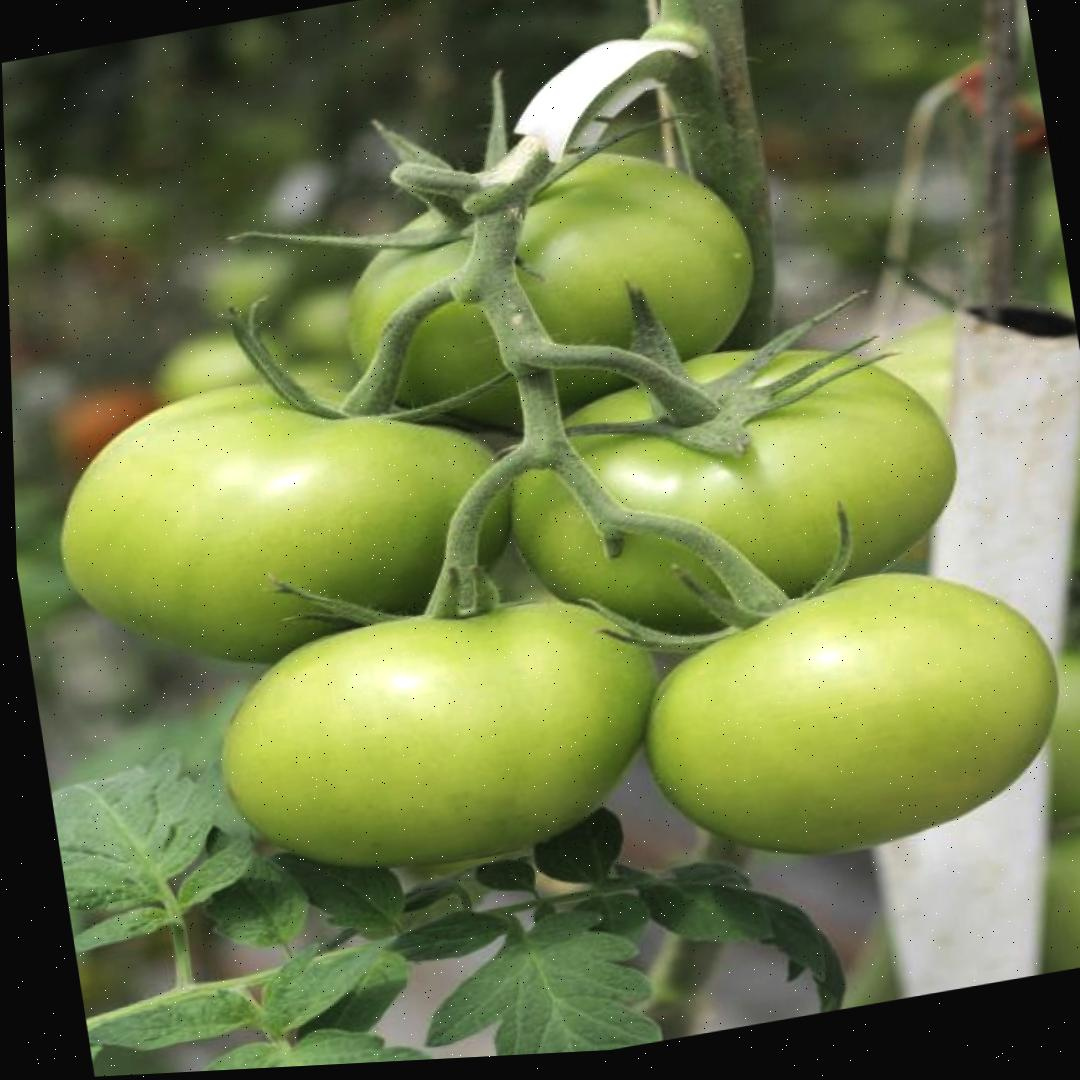mentah: (34, 341, 539, 705), (501, 309, 980, 668), (618, 540, 1080, 892), (200, 574, 685, 904), (320, 114, 778, 463)
